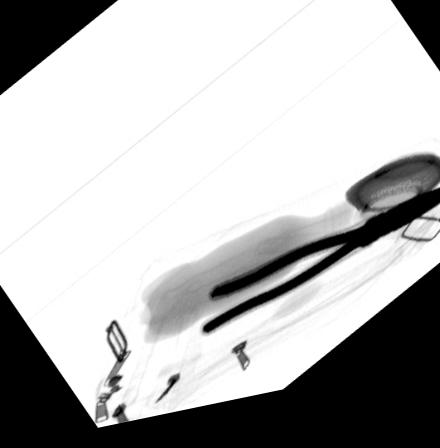Pliers: (198, 205, 440, 344)
